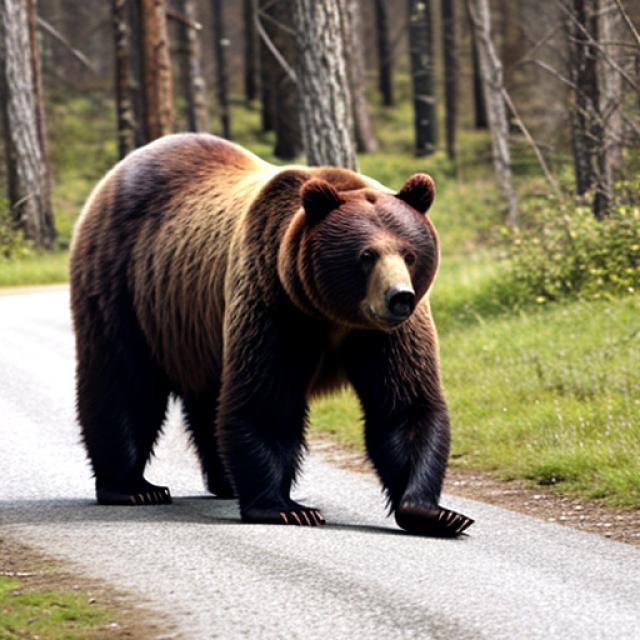bear: (79, 111, 486, 533)
